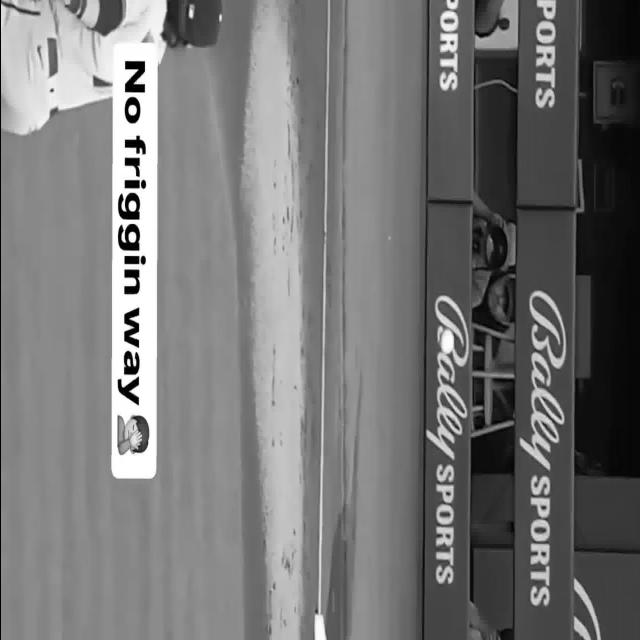base: (312, 613, 325, 640)
baseball: (439, 329, 454, 356)
